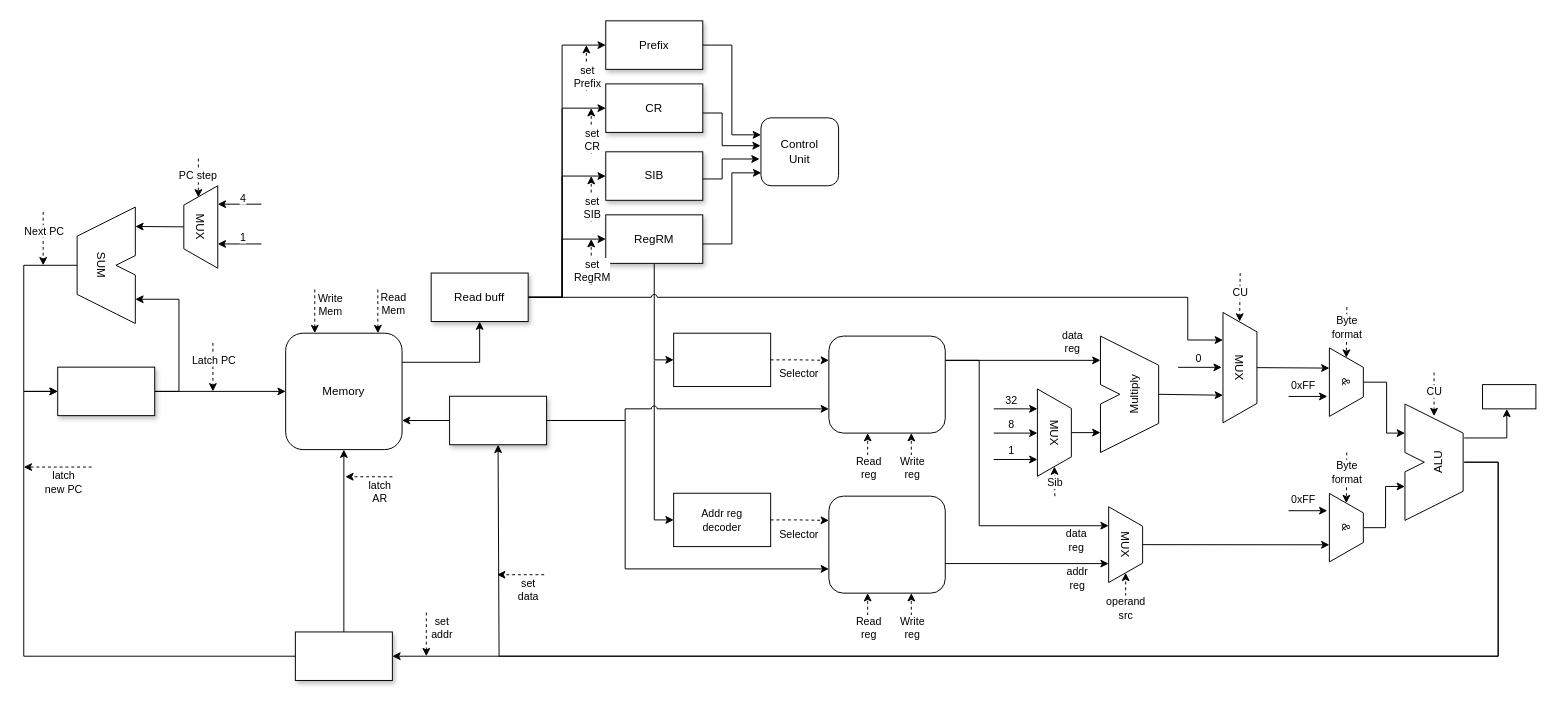
This 1553x704 diagram has some shape labels left out. Here are the shapes that lost their labels. From the top down, the centre of each, then its label:
point (722, 359): Data reg decoder
point (107, 392): IP
point (886, 384): Register file D0-D7
point (1509, 396): NZVC
point (498, 421): Write buff
point (886, 544): Register file A0-A7
point (344, 657): AR
